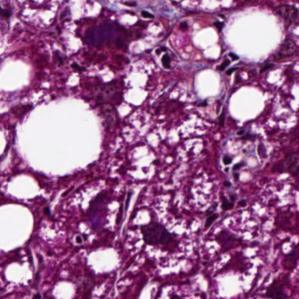inflammation: (198, 184, 252, 230), (145, 42, 180, 76), (214, 151, 253, 180), (211, 50, 245, 78), (112, 0, 159, 20)
